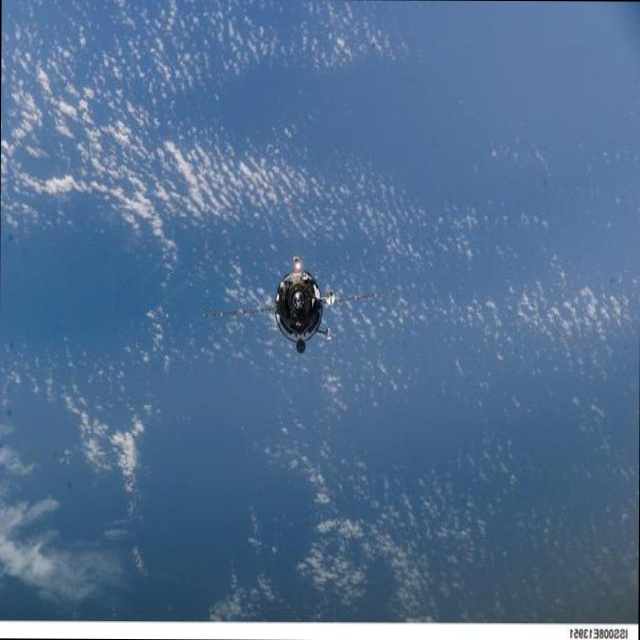satellite: (222, 246, 390, 358)
